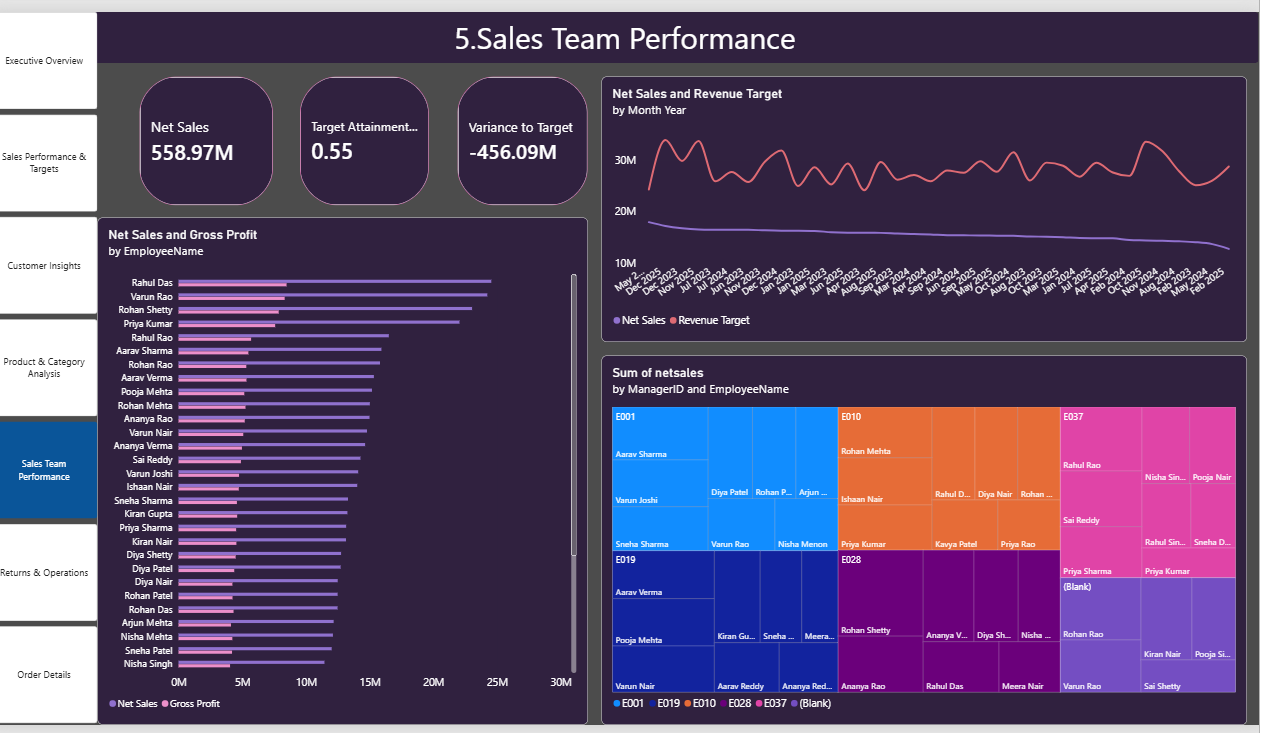

Layout of this report page (visuals, bound fields, positions):
{"tool":"powerbi","page":{"name":"Sales Team Performance","canvas":[1920,1080],"ordinal":4},"visuals":[{"type":"cardVisual","fields":{"Data":["Order_items.Net Sales"]},"box":[224.9,97.7,202.1,195.3],"z":0},{"type":"cardVisual","fields":{"Data":["Order_items.Target Attainment %"]},"box":[468.1,97.1,195.3,195.3],"z":2000},{"type":"cardVisual","fields":{"Data":["Order_items.Variance to Target"]},"box":[706.4,97.7,197.6,195.3],"z":3000},{"type":"clusteredBarChart","fields":{"Category":["Employees.EmployeeName"],"Y":["Order_items.Net Sales","Order_items.Gross Profit"]},"box":[161.3,311.2,742.7,767.7],"z":4000},{"type":"lineChart","fields":{"Category":["Calendar.Month Year"],"Y":["Order_items.Net Sales","Order_items.Revenue Target"]},"box":[925,97.7,977.3,402.3],"z":5000},{"type":"treemap","fields":{"Details":["Employees.EmployeeName"],"Group":["Employees.ManagerID"],"Values":["Sum(Order_items.netsales)"]},"box":[925,520.5,977.3,559.1],"z":6000},{"type":"actionButton","box":[0,0,1919.3,77.2],"z":7000},{"type":"pageNavigator","box":[0,0,161.3,1078.9],"z":7001}]}

Visuals, with their boxes on the page's 1920x1080 design canvas (x1, y1, x2, y2). These are canvas units, not pixel positions in the 1261x733 screenshot, which may show the page scaled, cropped or inside an application window:
cardVisual - Order_items.Net Sales: (left=225, top=98, right=427, bottom=293)
cardVisual - Order_items.Target Attainment %: (left=468, top=97, right=663, bottom=292)
cardVisual - Order_items.Variance to Target: (left=706, top=98, right=904, bottom=293)
clusteredBarChart - Employees.EmployeeName x Order_items.Net Sales: (left=161, top=311, right=904, bottom=1079)
lineChart - Calendar.Month Year x Order_items.Net Sales: (left=925, top=98, right=1902, bottom=500)
treemap - Employees.EmployeeName x Employees.ManagerID: (left=925, top=520, right=1902, bottom=1080)
actionButton: (left=0, top=0, right=1919, bottom=77)
pageNavigator: (left=0, top=0, right=161, bottom=1079)
